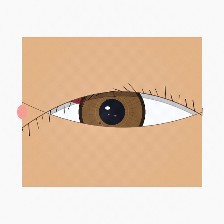hemorrhage_spot: (53, 61, 141, 131)
